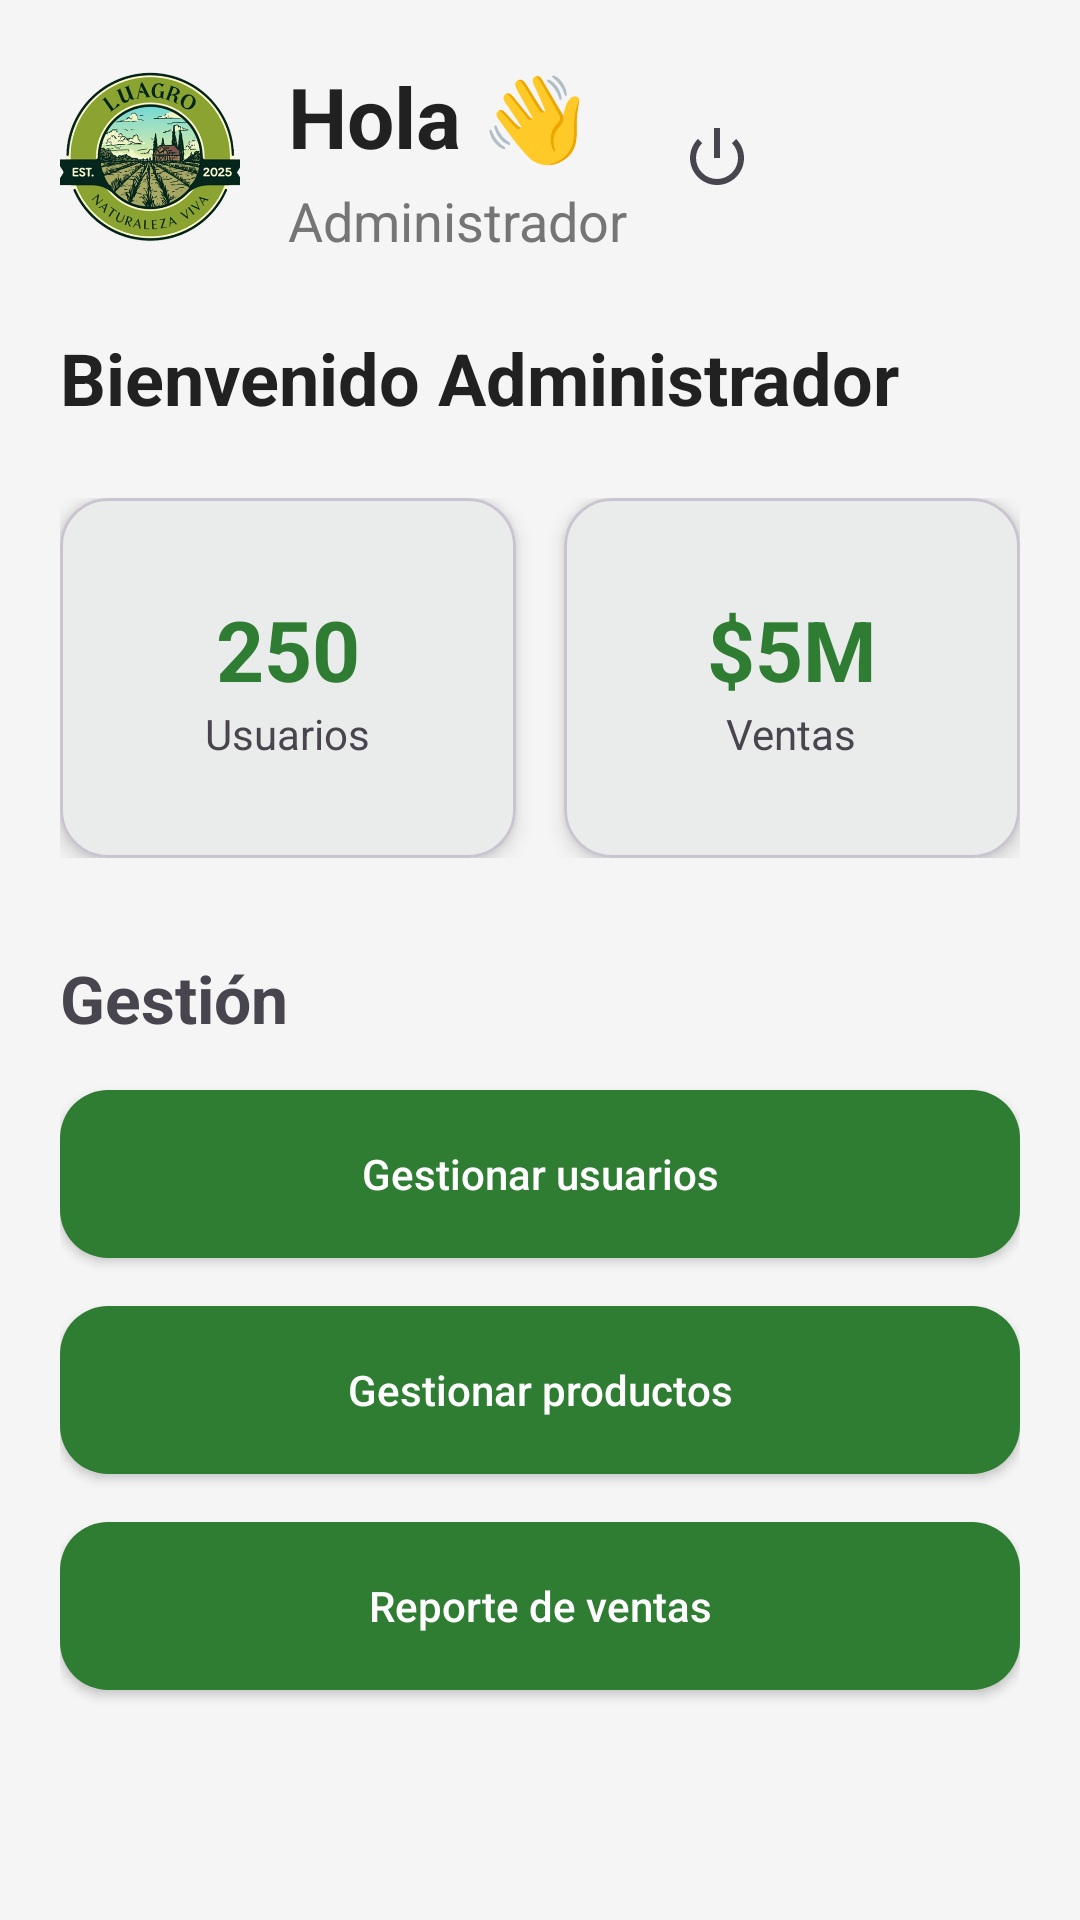

Icons on this 1080x1920 Android screen, each with its box as (left=x1, top=y1, right=x2, bottom=y2):
Cerrar sesión: (left=690, top=128, right=744, bottom=185)
